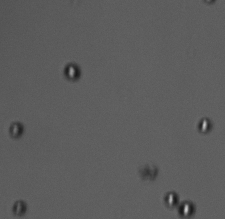Dead Cell: (138, 161, 159, 181), (7, 121, 25, 138), (11, 199, 27, 216)
Living Cell: (63, 63, 82, 81), (196, 117, 214, 134), (179, 199, 195, 217), (163, 190, 178, 207)
